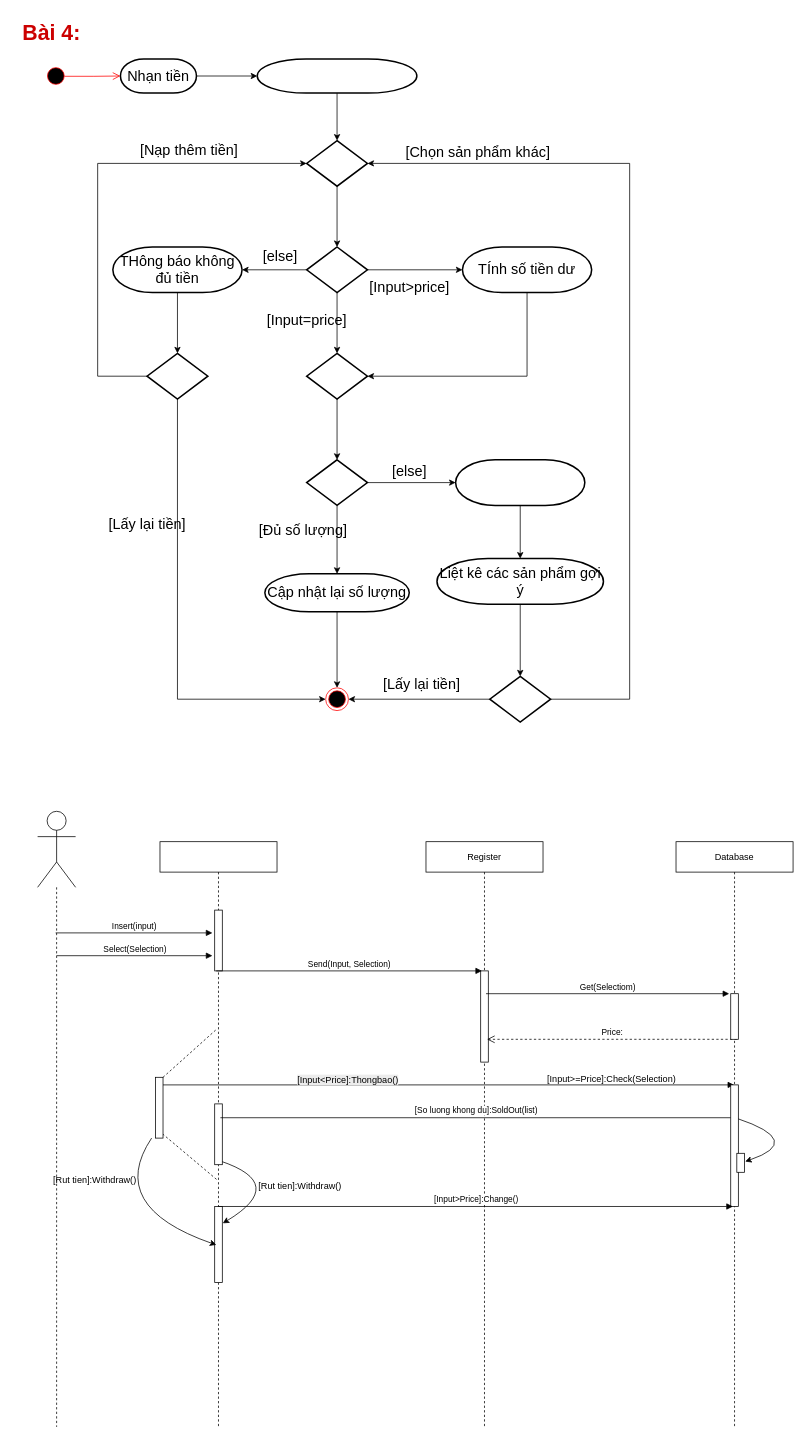
Some shapes in this 806 by 1440 pixel diagram are drawn without their labels. The shapes that lost their labels are listed below. From the top down, each one's centre as x and y in pixels, then its label:
point 336,75: Nhận thông tin sản phẩm
point 519,482: Thông báo "SOLD OUT"
point 218,1134: Man hinh
